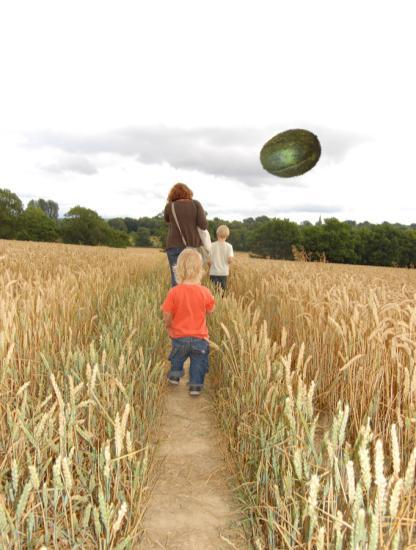Melon: (260, 123, 323, 186)
